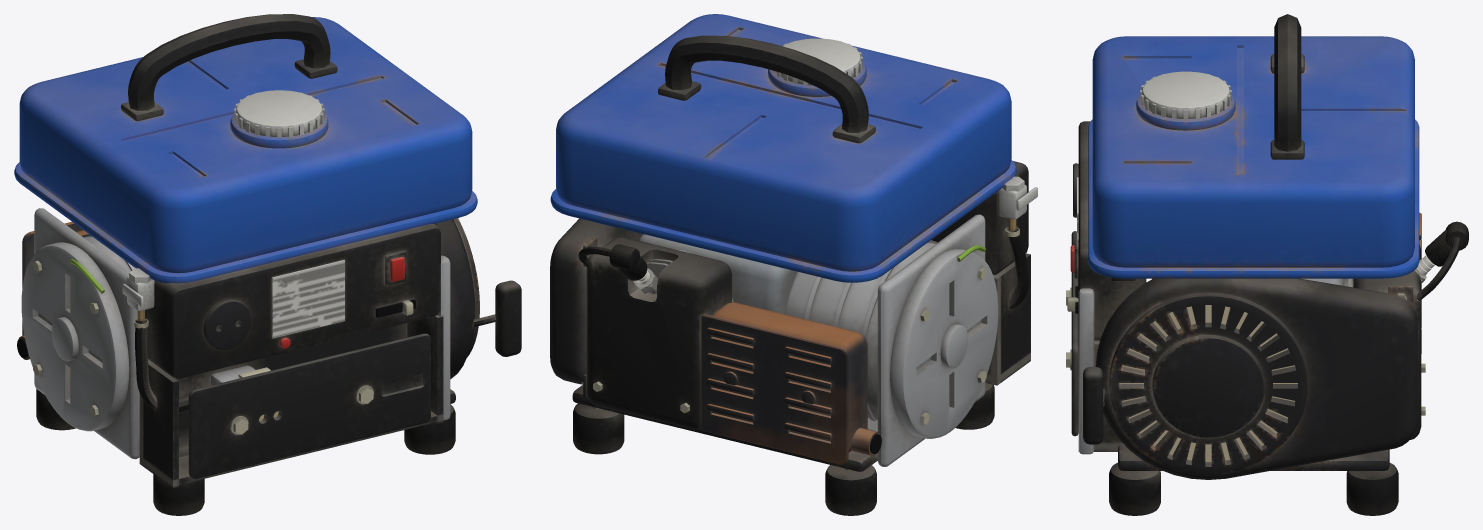
The picture shows the model from 3 angles, left to right: view 1: azimuth 30°, elevation 25°; view 2: azimuth 150°, elevation 25°; view 3: azimuth 270°, elevation 25°; orthographic projection.
Parts seen in each view (by area): view 1: fuel_tank, base_panel, air_filter_cover, alternator_cover, recoil_starter, base_frame, base_alternator, fuel_hose, fuel_tap, muffler, carburetor; view 2: fuel_tank, base_engine, muffler, alternator_cover, base_alternator, base_frame, recoil_starter, base_panel, plug_cap, fuel_tap, fuel_hose; view 3: fuel_tank, recoil_starter, base_frame, base_panel, base_engine, plug_cap, air_filter_cover.
Boxes of the visible parts, x1=… form: fuel_tank: x1=14, y1=14, x2=477, y2=283; base_panel: x1=139, y1=224, x2=443, y2=488; air_filter_cover: x1=188, y1=333, x2=430, y2=478; alternator_cover: x1=21, y1=242, x2=129, y2=431; recoil_starter: x1=434, y1=218, x2=521, y2=379; base_frame: x1=36, y1=255, x2=455, y2=515; base_alternator: x1=34, y1=208, x2=139, y2=459; fuel_hose: x1=133, y1=318, x2=188, y2=412; fuel_tap: x1=122, y1=268, x2=154, y2=320; muffler: x1=17, y1=221, x2=88, y2=359; carburetor: x1=211, y1=365, x2=270, y2=385; fuel_tank: x1=550, y1=14, x2=1016, y2=282; base_engine: x1=586, y1=234, x2=797, y2=429; muffler: x1=698, y1=302, x2=881, y2=464; alternator_cover: x1=890, y1=245, x2=998, y2=438; base_alternator: x1=784, y1=214, x2=985, y2=466; base_frame: x1=572, y1=383, x2=994, y2=515; recoil_starter: x1=550, y1=218, x2=642, y2=396; base_panel: x1=931, y1=161, x2=1030, y2=385; plug_cap: x1=578, y1=244, x2=647, y2=280; fuel_tap: x1=999, y1=176, x2=1037, y2=230; fuel_hose: x1=1004, y1=226, x2=1028, y2=309; fuel_tank: x1=1088, y1=14, x2=1419, y2=278; recoil_starter: x1=1083, y1=277, x2=1417, y2=479; base_frame: x1=1078, y1=288, x2=1398, y2=515; base_panel: x1=1067, y1=121, x2=1146, y2=451; base_engine: x1=1152, y1=244, x2=1425, y2=438; plug_cap: x1=1416, y1=221, x2=1468, y2=300; air_filter_cover: x1=1066, y1=231, x2=1078, y2=436.
Bounding box in the file's own units: 0.3865 × 0.3961 × 0.3562.
Materials: 2 (2 with a texture image).
